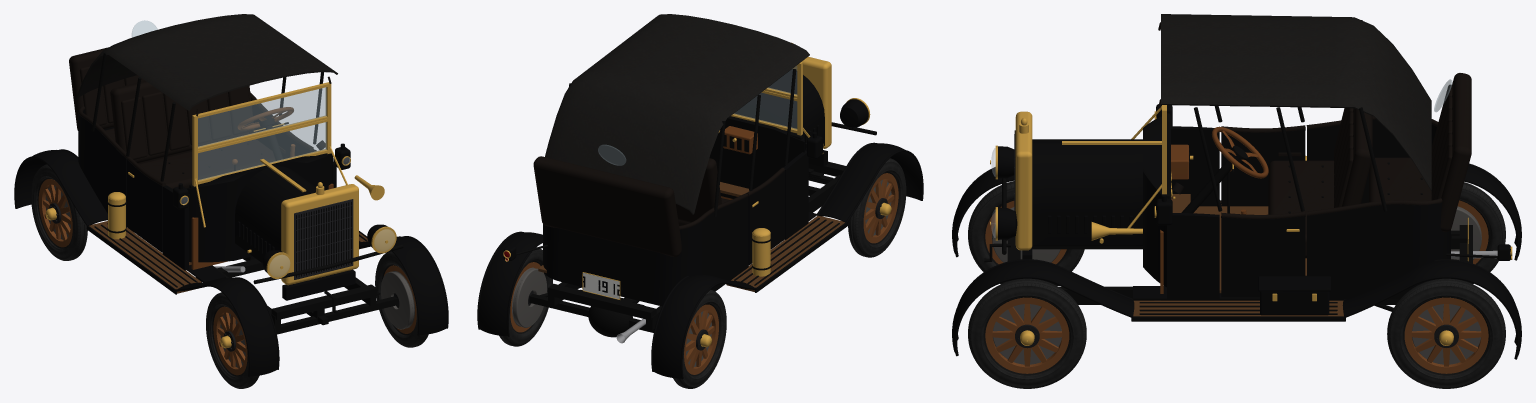
Rendered from runabout_t.glb.
3 renders of one model, left to right at view 1: azimuth 30°, elevation 25°; view 2: azimuth 150°, elevation 25°; view 3: azimuth 270°, elevation 25°, orthographic. The views are drawn at different scales.
Visible parts, largest first — view 1: runabout_t, top, windscreen_upper, hood_R, wheel_RR, wheel_FR, wheel_FL, door_R, steering_wheel, door_L, hood_L; view 2: runabout_t, top, wheel_FR, wheel_RR, wheel_RL, door_R, hood_R, windscreen_upper; view 3: runabout_t, top, hood_L, wheel_FL, wheel_RL, door_L, door_R, wheel_FR, wheel_RR, steering_wheel.
Part boxes in pixels (<box>): runabout_t: <box>14,47,448,376</box>; top: <box>75,14,337,181</box>; windscreen_upper: <box>198,83,327,150</box>; hood_R: <box>235,167,307,262</box>; wheel_RR: <box>31,164,87,260</box>; wheel_FR: <box>206,292,259,388</box>; wheel_FL: <box>375,251,428,347</box>; door_R: <box>127,156,166,252</box>; steering_wheel: <box>237,107,293,130</box>; door_L: <box>274,121,313,158</box>; hood_L: <box>273,165,315,194</box>; runabout_t: <box>477,42,923,379</box>; top: <box>545,14,809,216</box>; wheel_FR: <box>848,158,906,257</box>; wheel_RR: <box>673,289,726,388</box>; wheel_RL: <box>499,249,552,346</box>; door_R: <box>746,167,785,265</box>; hood_R: <box>745,69,824,151</box>; windscreen_upper: <box>764,65,797,98</box>; runabout_t: <box>952,73,1521,359</box>; top: <box>1158,14,1452,211</box>; hood_L: <box>1032,143,1146,246</box>; wheel_FL: <box>968,278,1086,388</box>; wheel_RL: <box>1387,278,1505,388</box>; door_L: <box>1221,212,1305,297</box>; door_R: <box>1221,125,1305,206</box>; wheel_FR: <box>968,181,1084,283</box>; wheel_RR: <box>1451,182,1505,283</box>; steering_wheel: <box>1212,126,1268,178</box>.
Size of the model in its own units: 1.67 by 1.95 by 3.45.
Materials: 33 (5 with a texture image).
